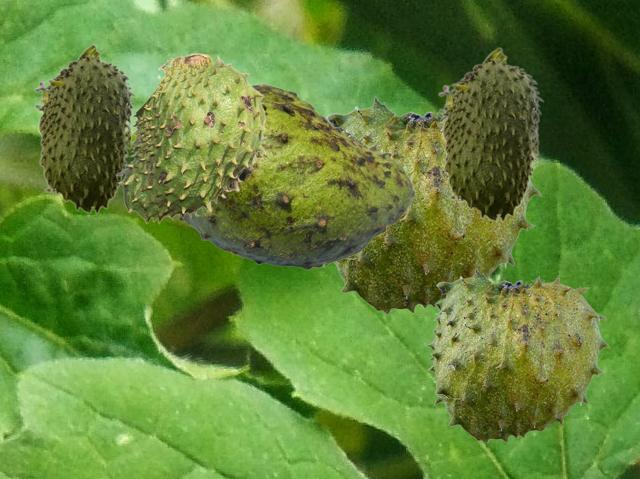guyabano: (323, 95, 541, 313), (178, 83, 414, 269), (426, 267, 609, 442), (115, 53, 266, 223), (438, 46, 543, 221), (34, 43, 136, 213)
